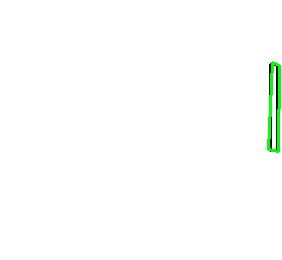line_segment: (268, 62, 280, 152)
